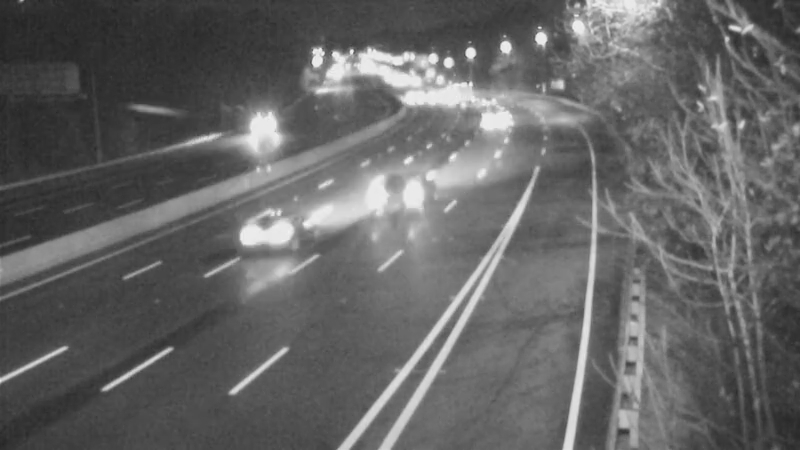vehicle: (346, 162, 426, 242), (233, 184, 313, 264), (386, 73, 436, 123), (441, 65, 491, 115), (458, 77, 508, 127), (464, 102, 514, 152), (240, 107, 290, 157)
